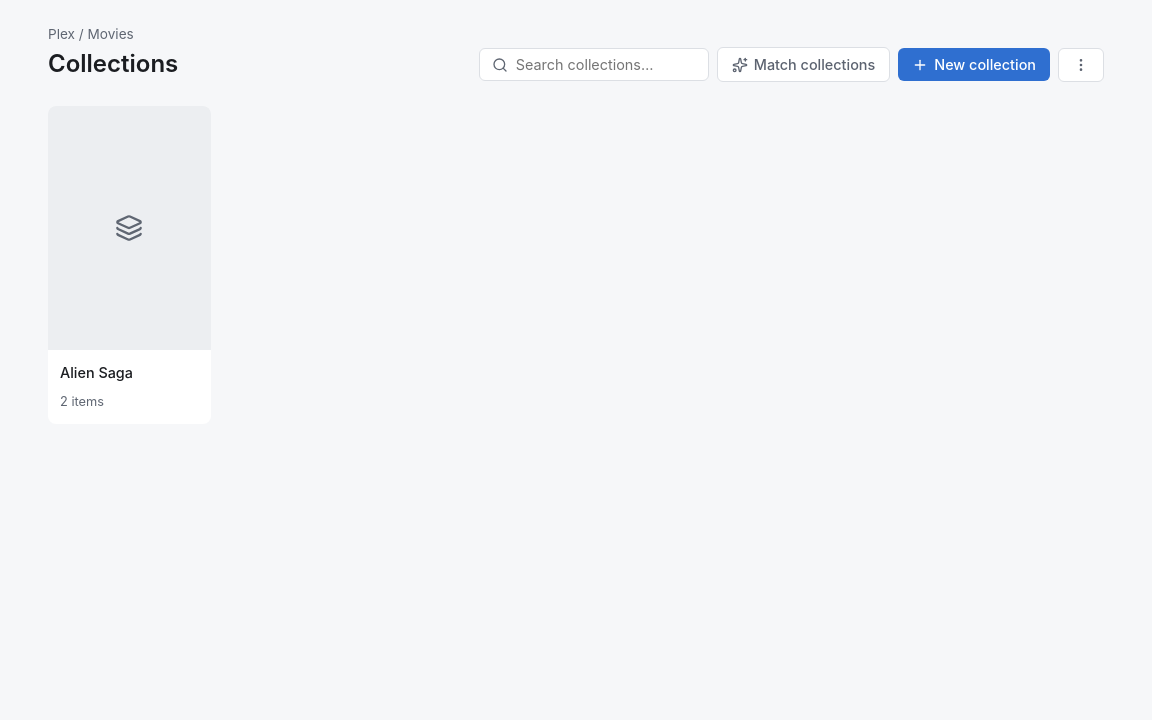
Test: CollectionsPage › says that removing a member changes the collection on the media server
What coordinates should you click on to do the following:
click the heading "Alien Saga"
I would click on:
 (96, 373)
Its box is [60,364,133,381].
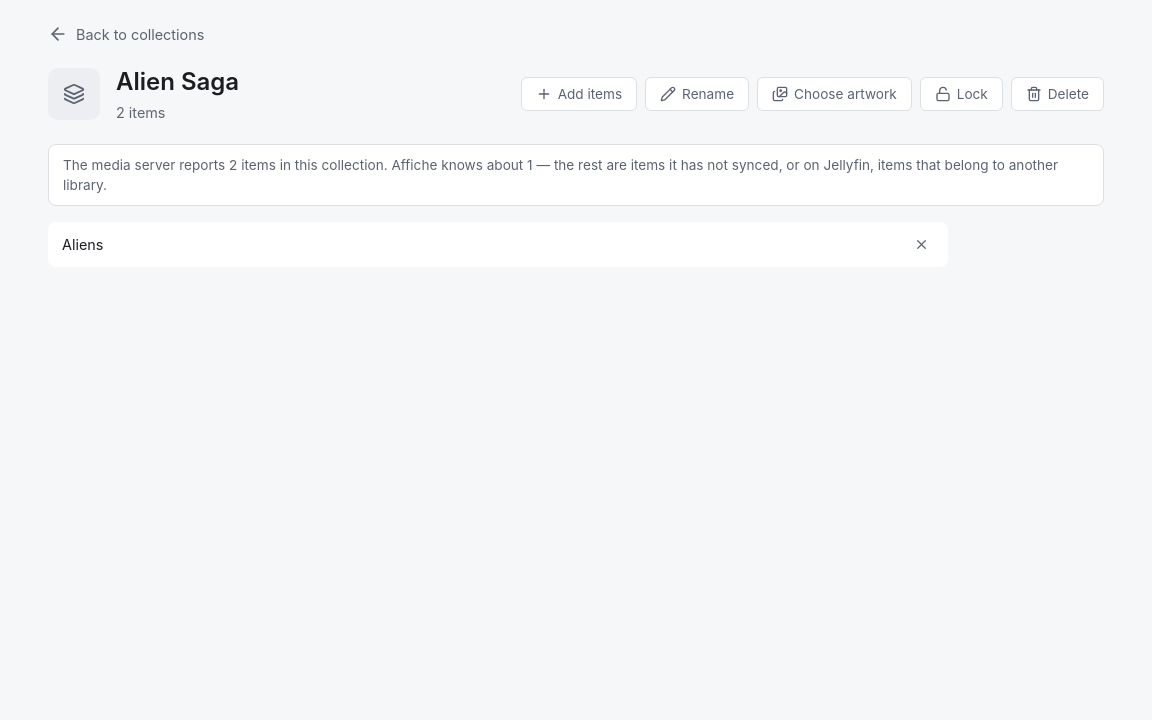
What coordinates should you click on to do the following:
click the button named "Remove Aliens from Alien Saga"
I would click on:
 (922, 245)
Its box is [909,232,934,257].
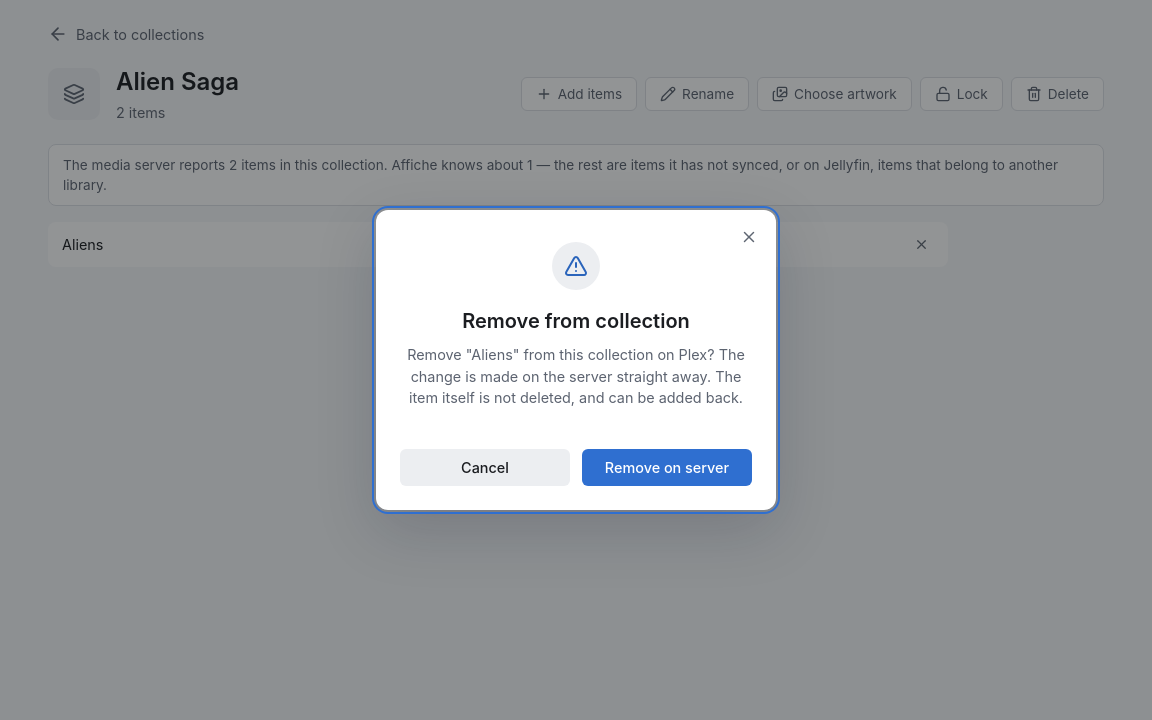
Expected: the dialog shows "on Plex? The change is made on the server straight away.", [407,346,745,406]
Expected: the button "Remove on server" is shown, [582,449,752,486]
